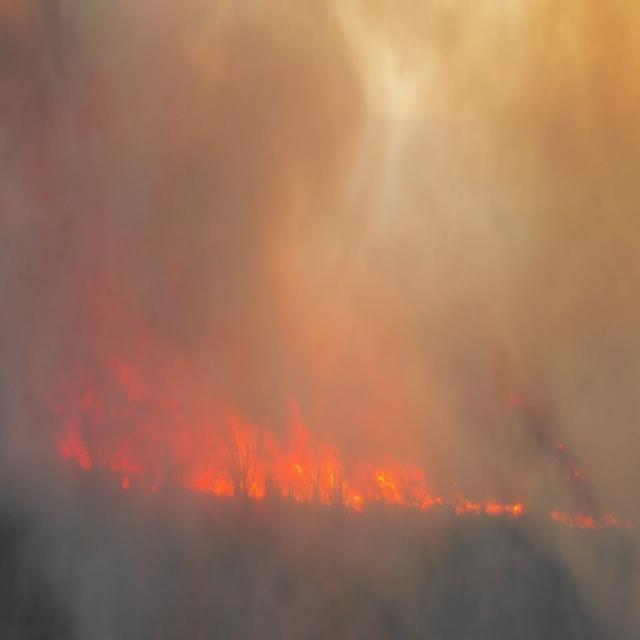Smoke: (23, 0, 604, 311)
